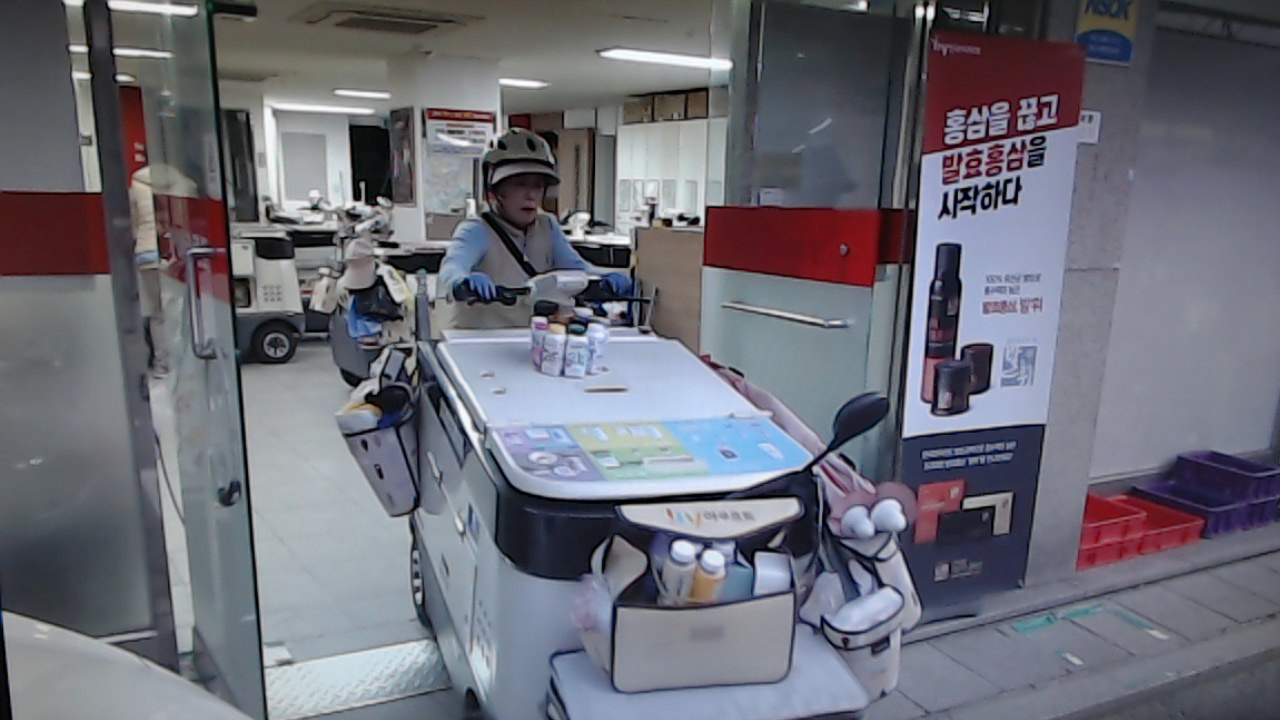Yakurut: (430, 128, 659, 319)
